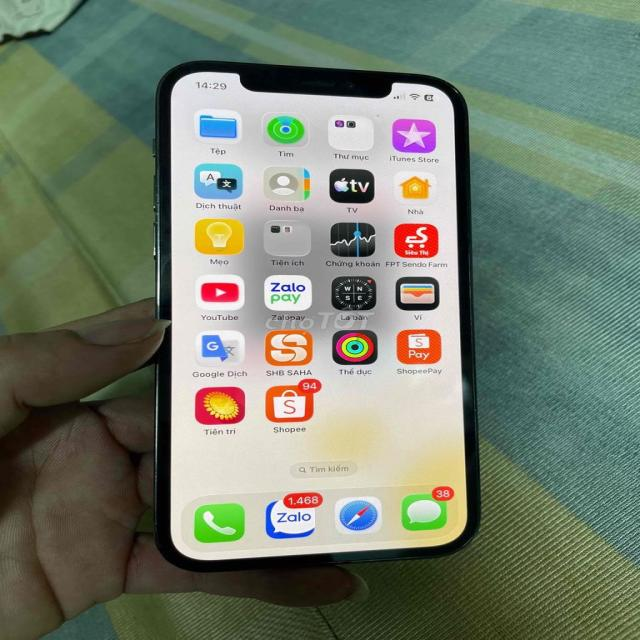gen_12_13: (142, 53, 490, 576)
